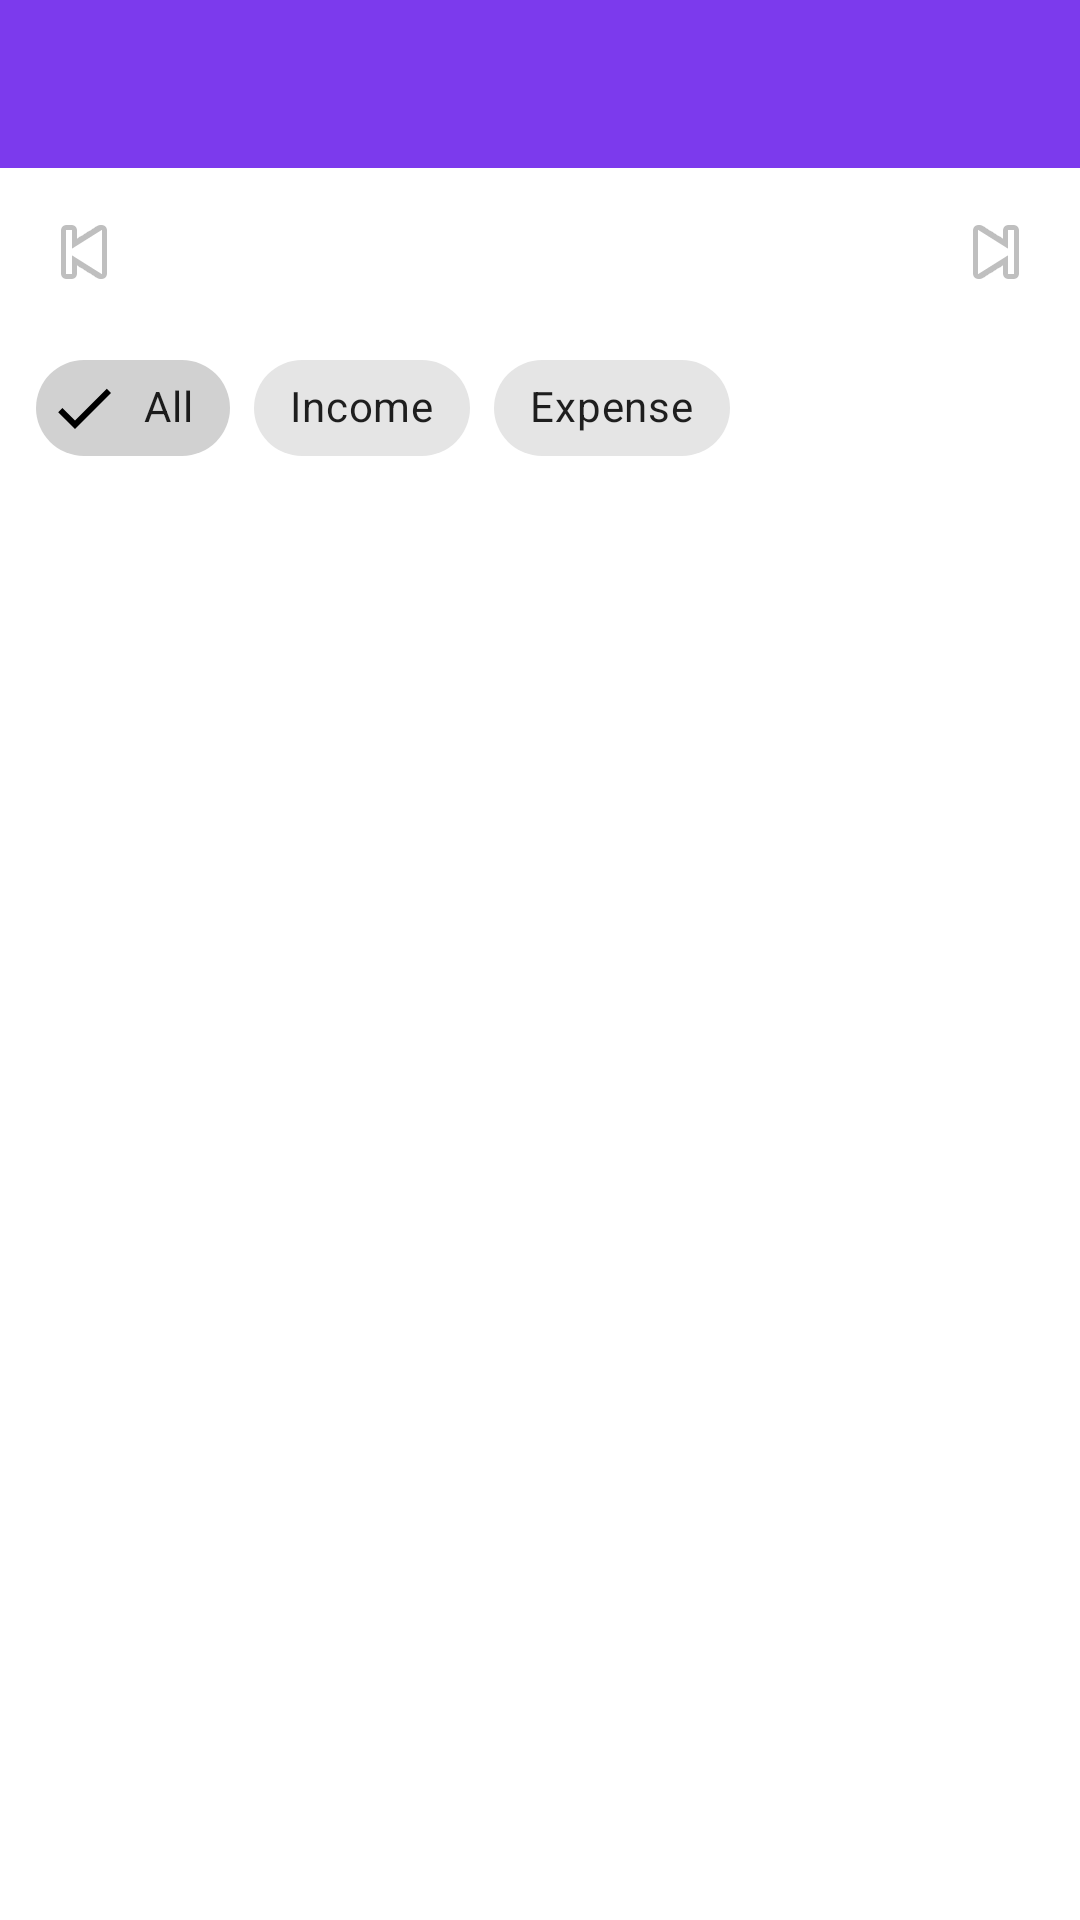

Named icons in this screenshot (1080*1920) and their bounding boxes, (x1, y1, x2, y2):
Next month: (973, 225, 1019, 279)
Previous month: (61, 225, 107, 279)
